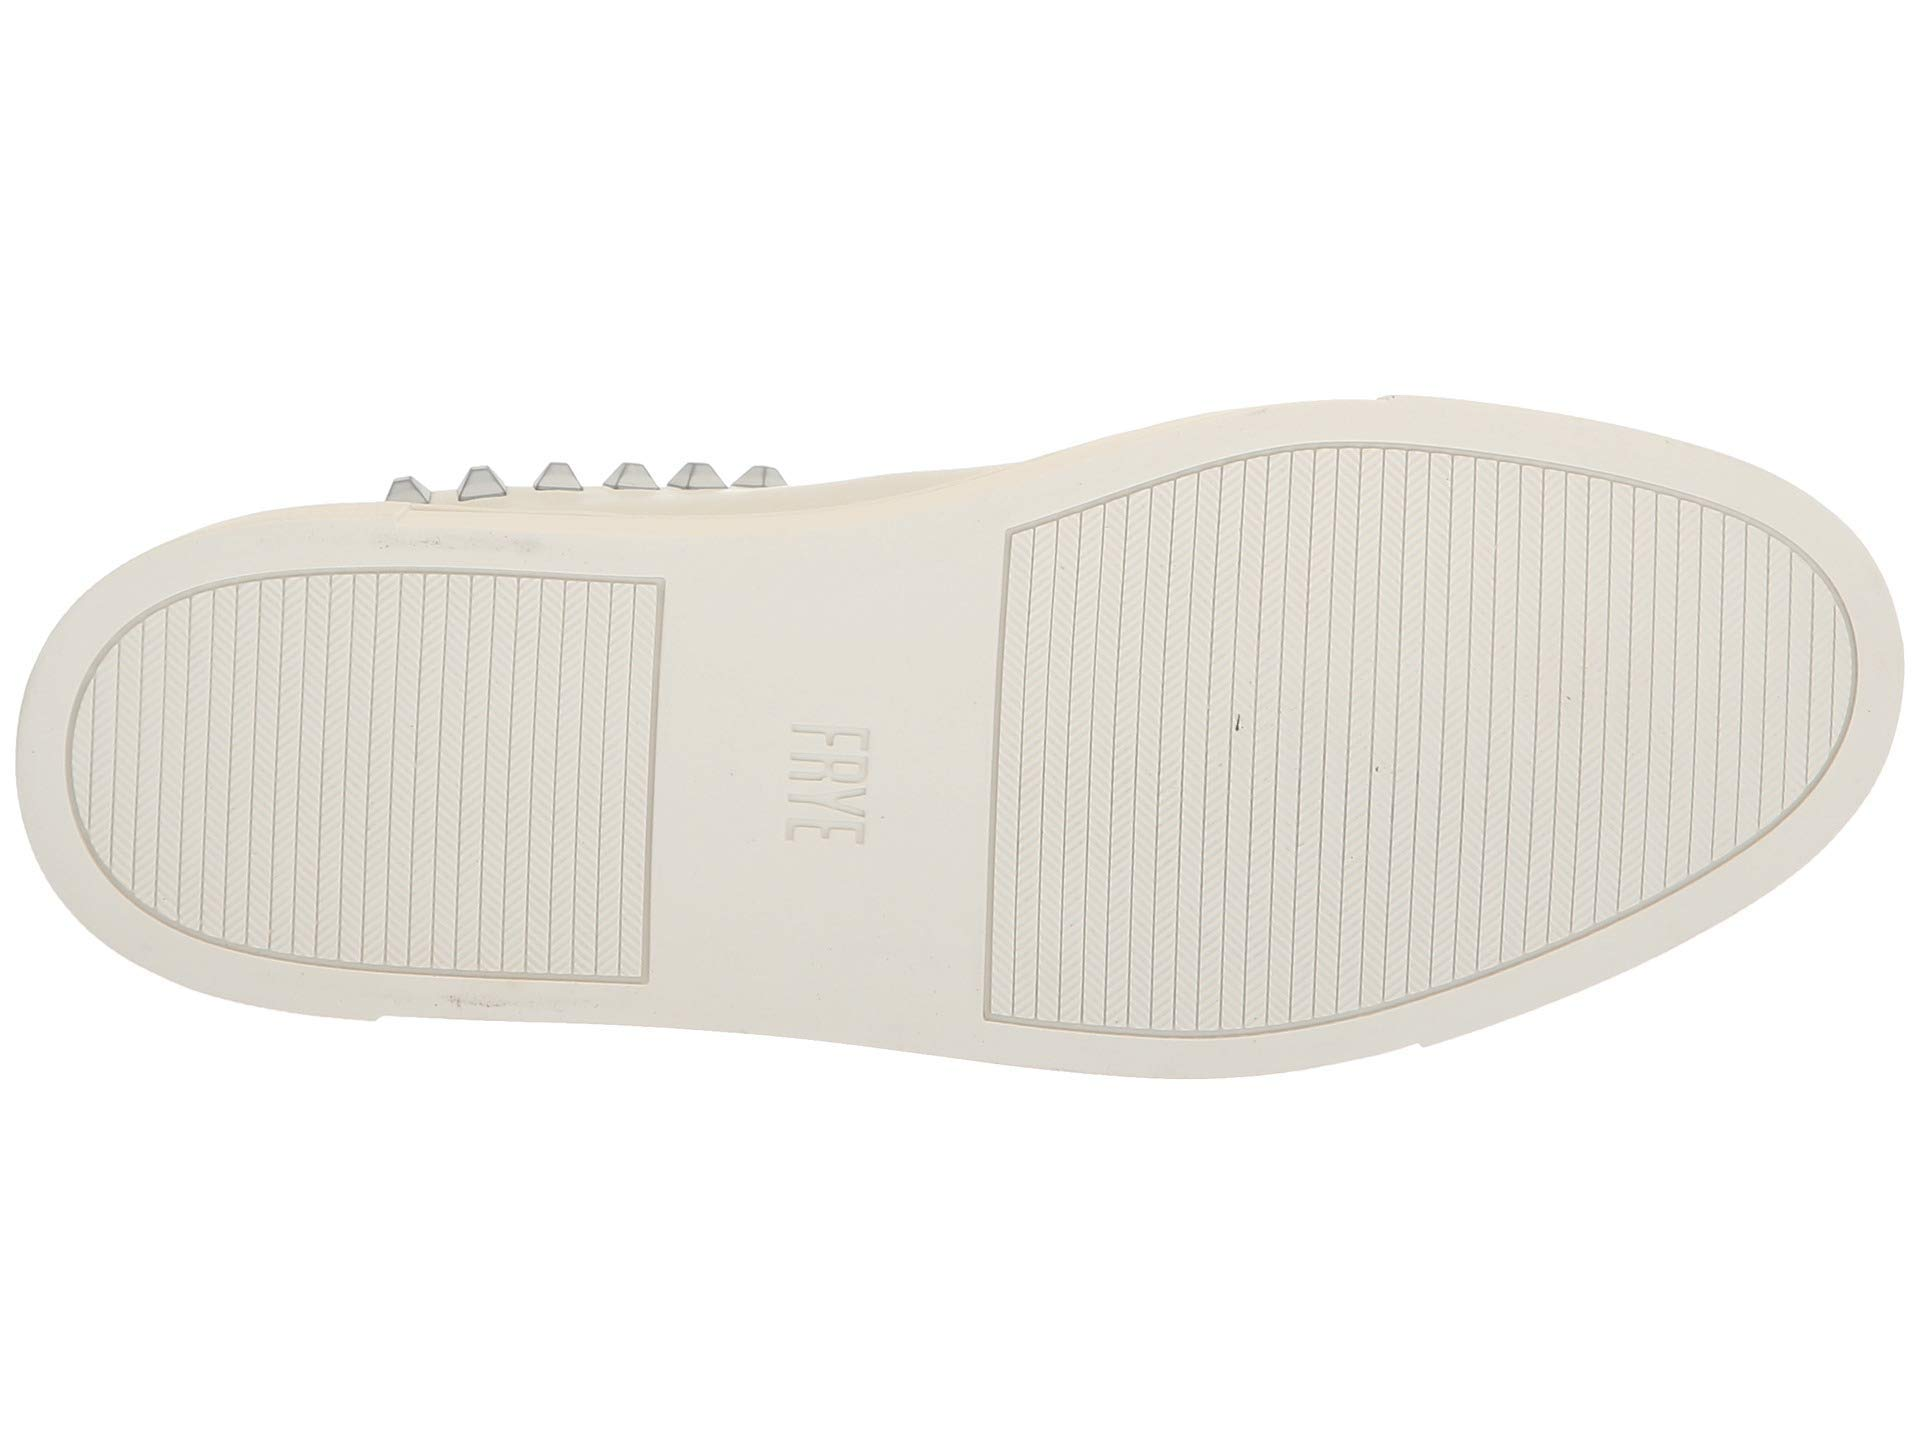line: (1079, 464, 1731, 961), (112, 611, 646, 982)
quad: (1079, 464, 1731, 961), (112, 611, 646, 982)
text: (732, 670, 900, 895)
